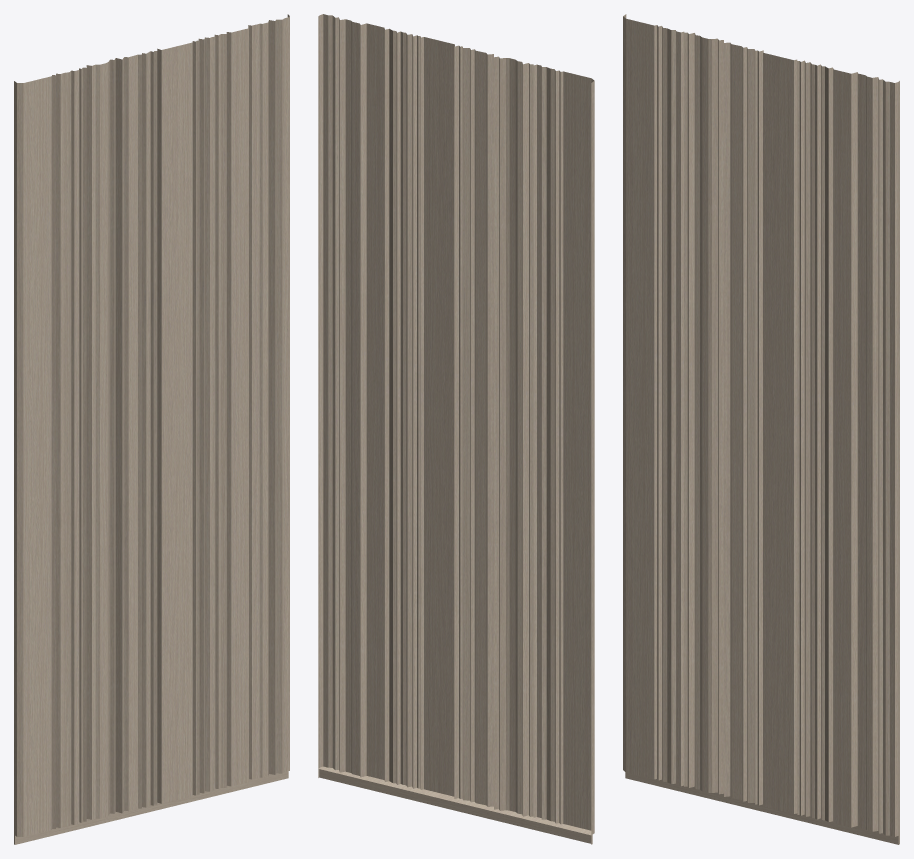
3 views of the same model, side by side, from view 1: azimuth 30°, elevation 25°; view 2: azimuth 150°, elevation 25°; view 3: azimuth 330°, elevation 25° (orthographic).
Visible parts, largest first — view 1: M_W_008_d_3x8; view 2: M_W_008_d_3x8; view 3: M_W_008_d_3x8.
Part boxes in pixels (<box>): M_W_008_d_3x8: <box>14,14,289,844</box>; M_W_008_d_3x8: <box>318,14,594,844</box>; M_W_008_d_3x8: <box>623,14,899,844</box>.
Size of the model in its own units: 3 by 8 by 0.1029.
